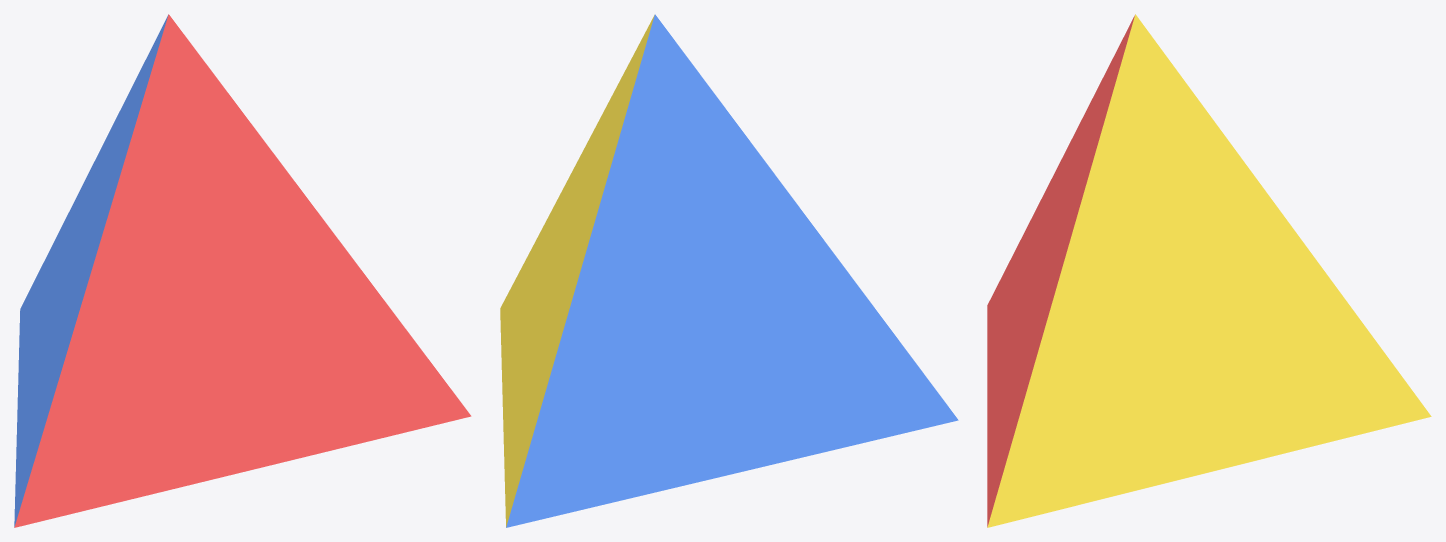
Rendered from pyraminx.gltf.
3 views of the same model, side by side, from view 1: azimuth 30°, elevation 25°; view 2: azimuth 150°, elevation 25°; view 3: azimuth 270°, elevation 25° (orthographic).
Visible parts, largest first — view 1: Pyraminx; view 2: Pyraminx; view 3: Pyraminx.
Part boxes in pixels (box(x1,y1,x2,y2)): Pyraminx: box(14, 14, 471, 527); Pyraminx: box(500, 14, 958, 527); Pyraminx: box(987, 14, 1431, 527).
Size of the model in its own units: 1.6 by 1.35 by 1.35.
